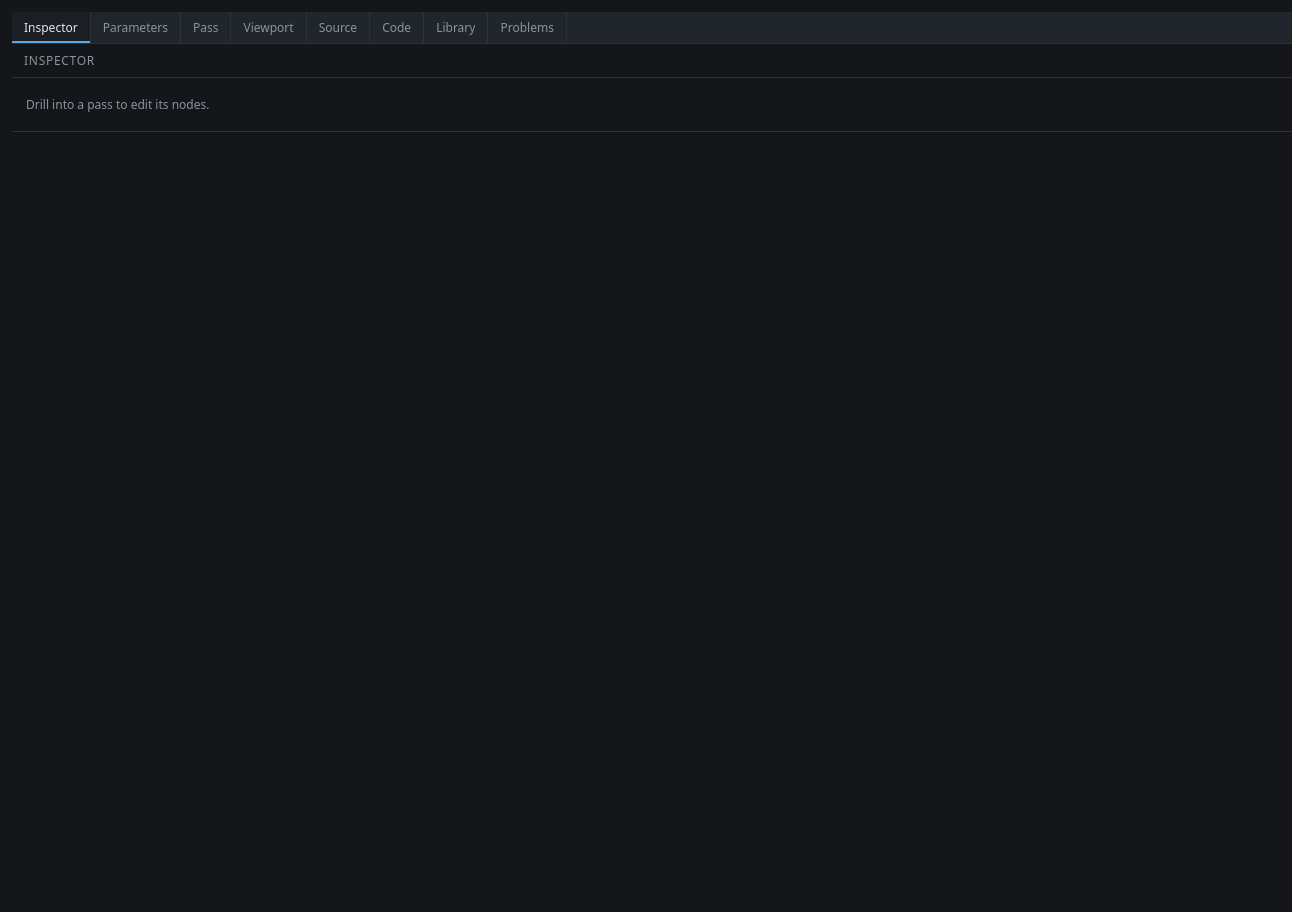
Test: PanelLayout › shows the inspector tab by default and switches tabs
Click the tab "Pass": (206, 28) x1=181 y1=12 x2=231 y2=43
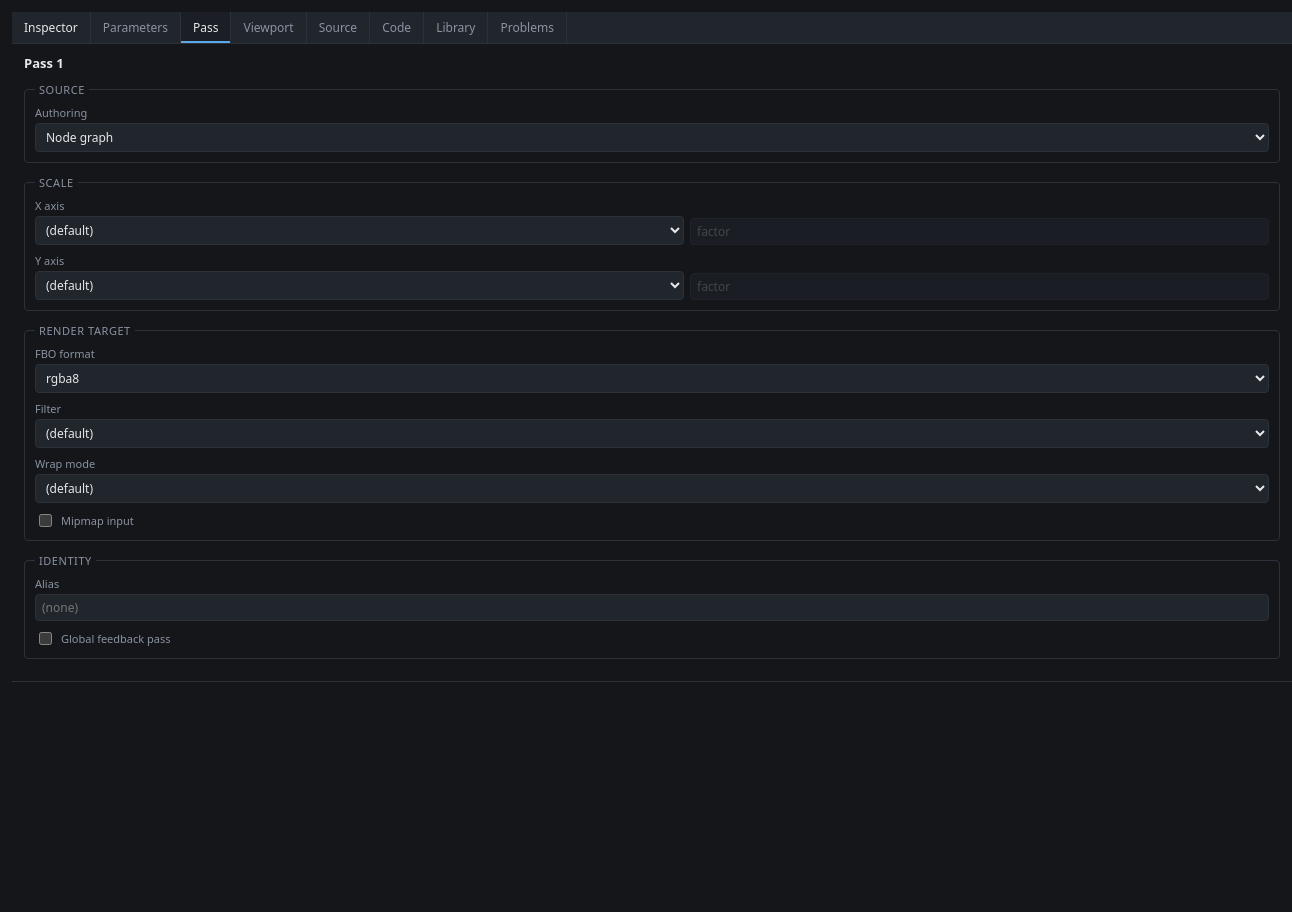
Expected: the element named "Pass settings" is shown
Click the tab "Viewport": (269, 28) x1=231 y1=12 x2=307 y2=43
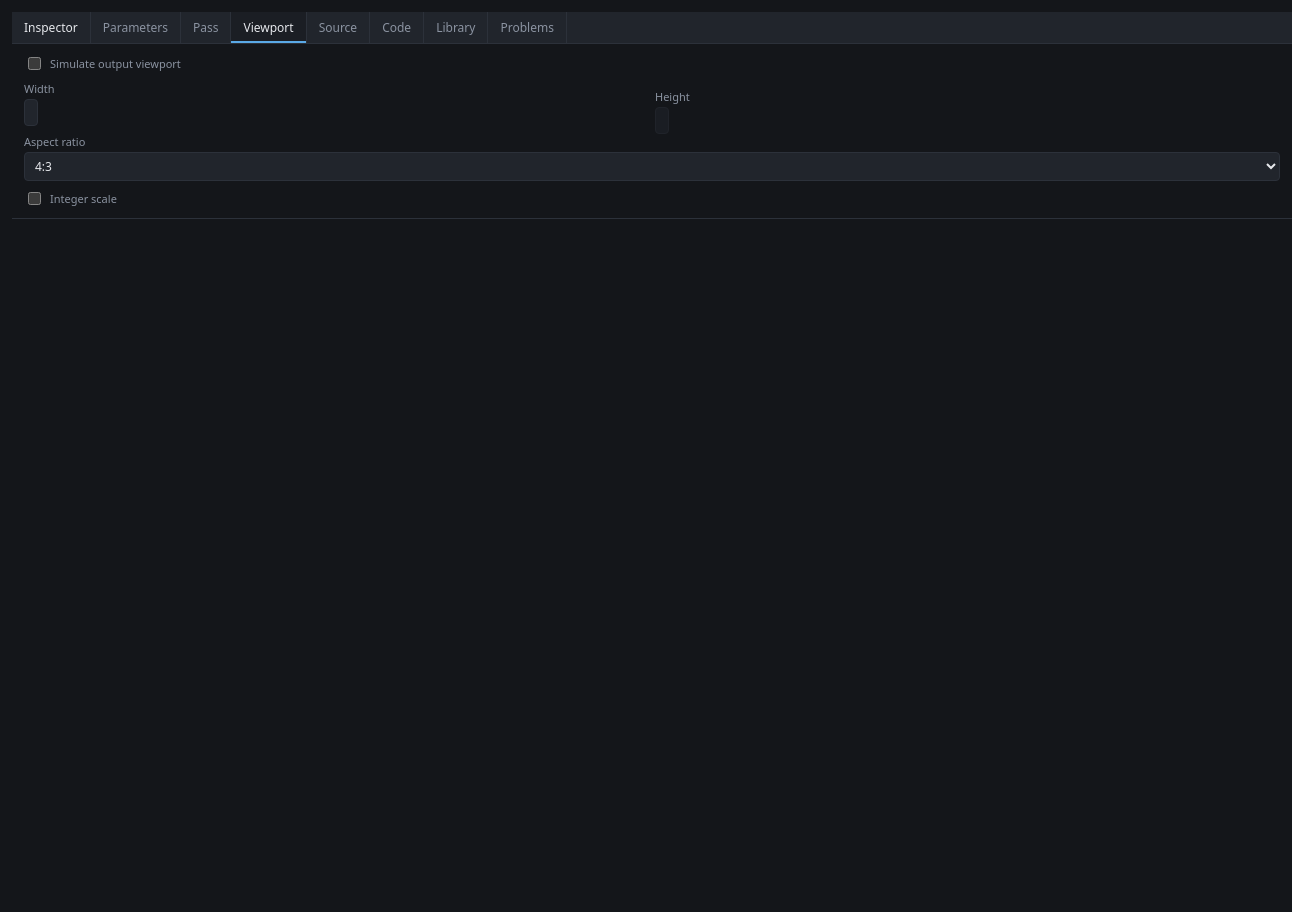
Expected: the element labelled "viewport" is shown, x1=12 y1=44 x2=1291 y2=218
Click the tab "Source": (338, 28) x1=307 y1=12 x2=370 y2=43
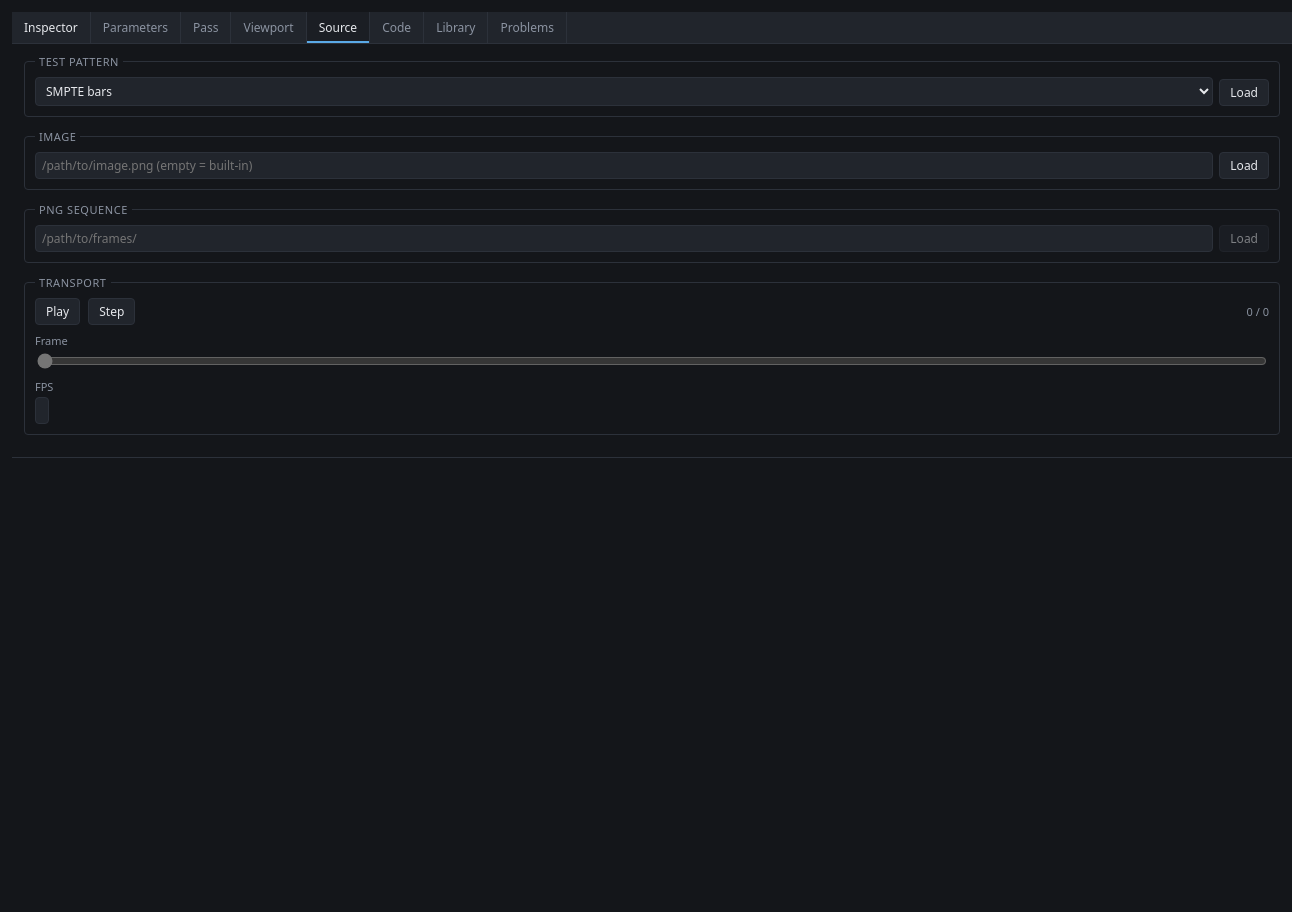
Expected: the element named "Source" is shown, x1=12 y1=44 x2=1291 y2=457
Click the tab "Library": (456, 28) x1=424 y1=12 x2=488 y2=43
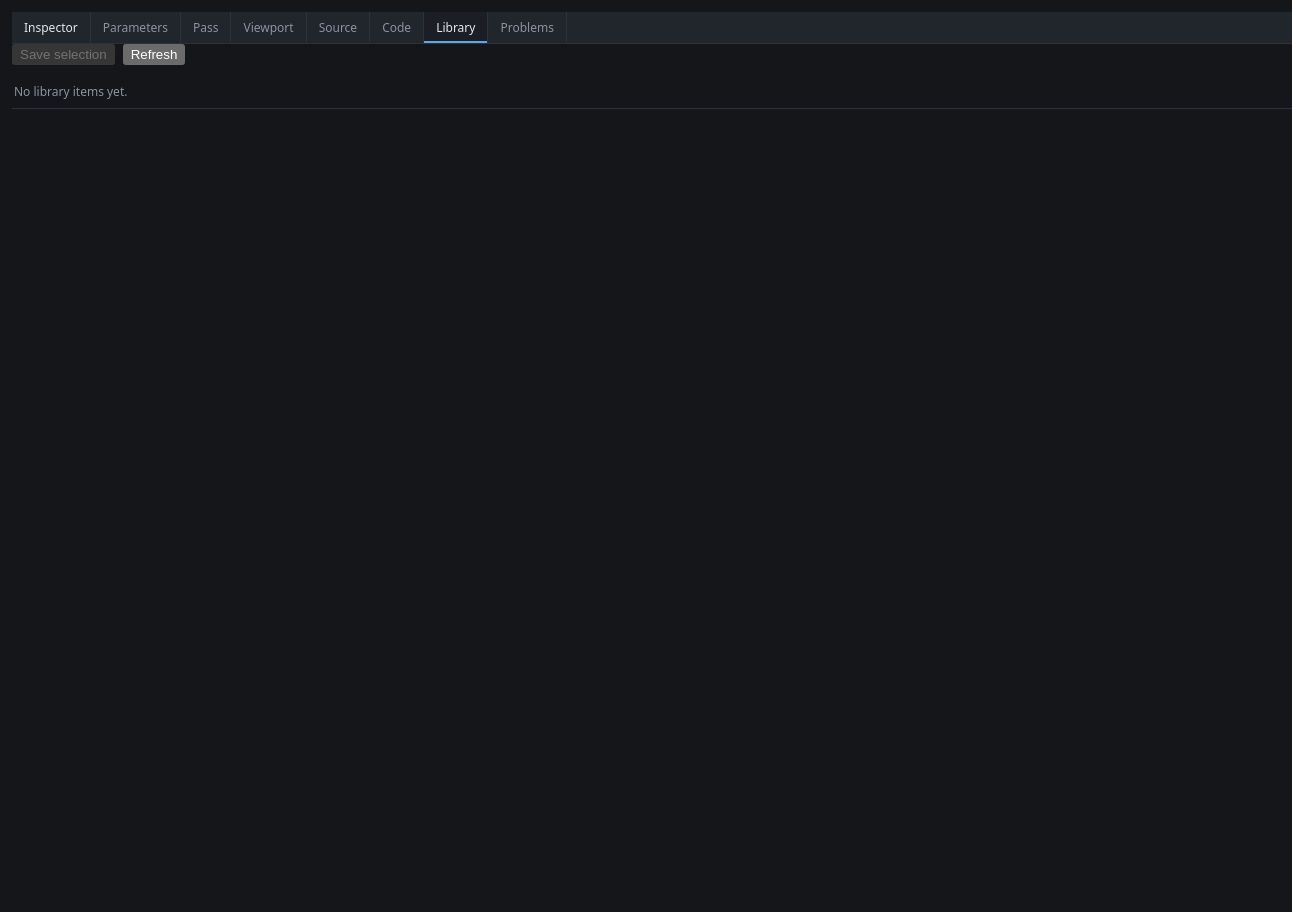
Expected: the element labelled "library" is shown, x1=12 y1=44 x2=185 y2=100
